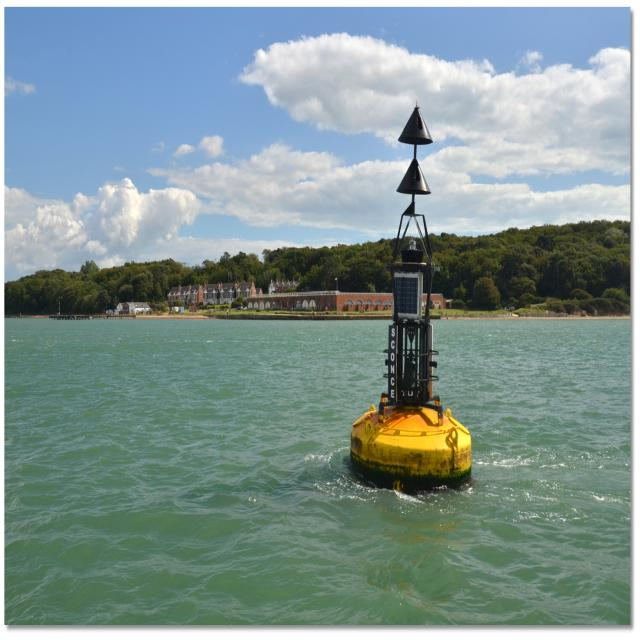marque: (350, 98, 480, 491)
